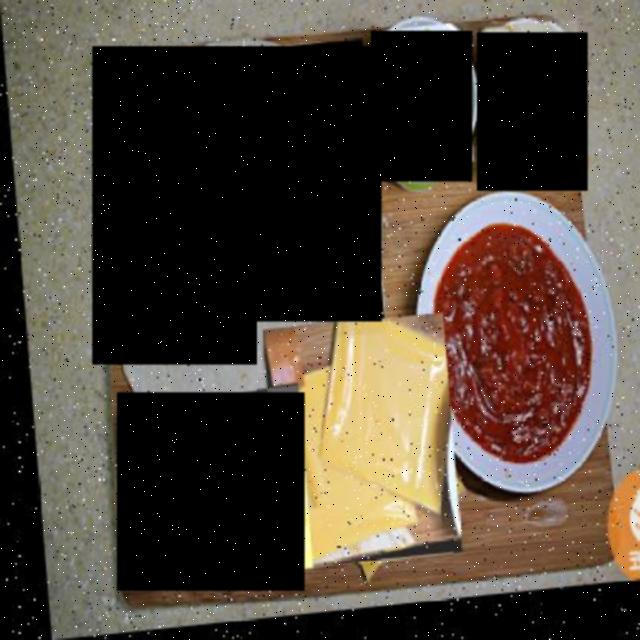Bread: (93, 46, 381, 365)
Cheese: (257, 322, 454, 581), (478, 32, 588, 191)
Onion_Leaves: (371, 31, 472, 182)
Sausage: (117, 392, 305, 591)
